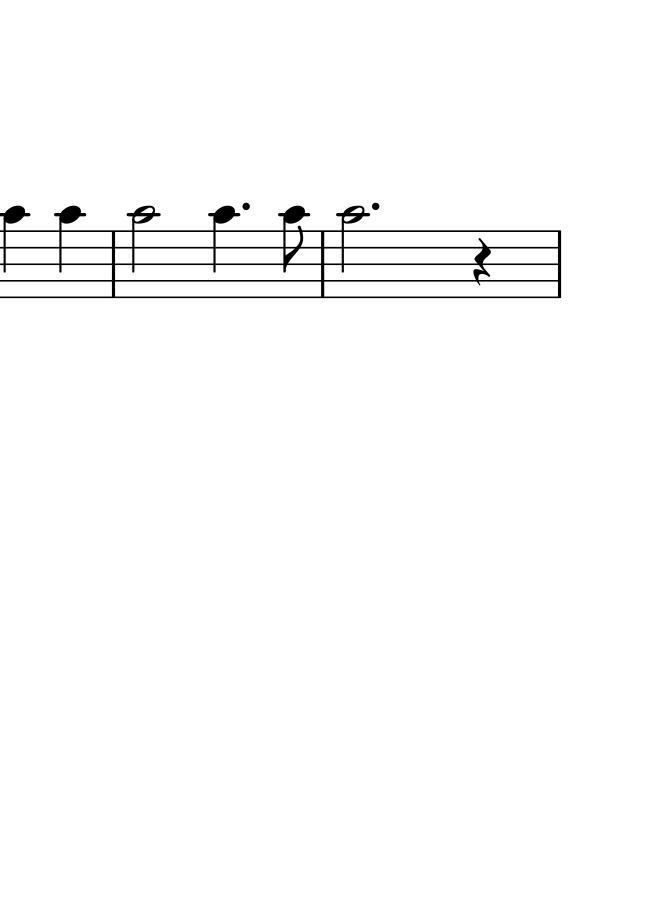2_10: (338, 205, 369, 300), (129, 205, 159, 301)
4_10: (209, 204, 241, 300), (56, 206, 84, 301), (1, 205, 28, 300)
8_10: (277, 204, 311, 300)
Rests4: (472, 237, 493, 287)
Single_barline: (549, 229, 567, 299), (105, 232, 122, 296), (315, 229, 330, 298)
dot: (368, 201, 381, 214), (239, 201, 251, 214)
